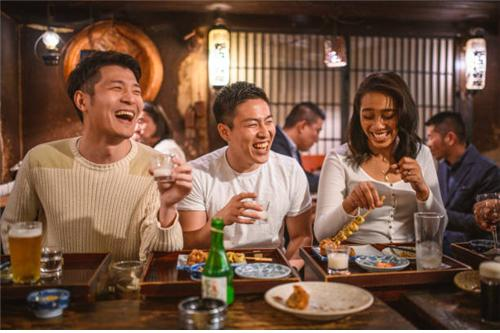alcohol: (201, 217, 237, 308), (8, 220, 45, 282), (414, 211, 447, 269), (112, 261, 145, 302), (38, 245, 68, 278), (150, 152, 177, 186)
